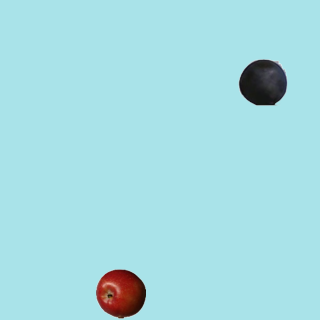Apple Braeburn: (95, 268, 145, 318)
Grape Blue: (237, 56, 287, 106)
